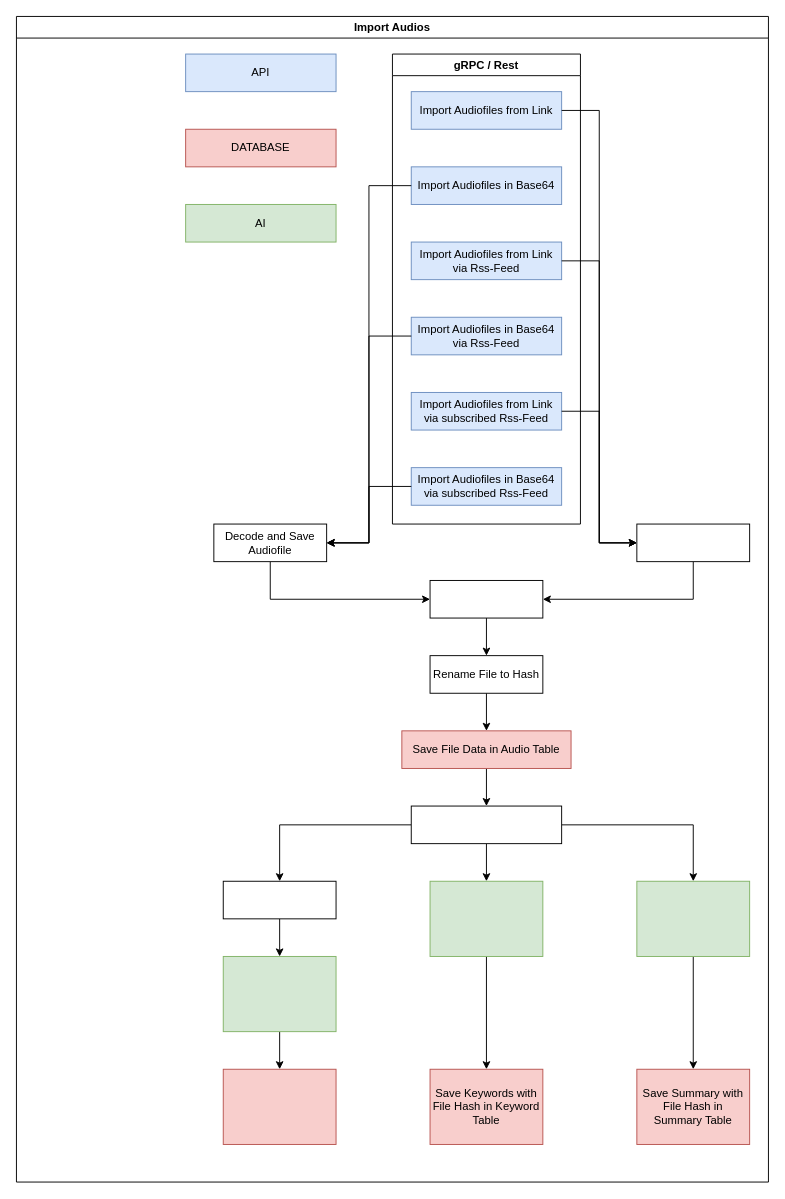
This 785x1199 diagram has some shape labels left out. The centre of each missing label's shape, as x and y in pixels:
Create a Structured Summary: [693,918]
Create embeddings for each sections via nomic- embed-text: [279,994]
Create Important Data Keywords: (Persons, Deadlines, Consepts, etc): [486,918]
Create SHA-512 File Hash: [486,599]
Create Transcript with Timestamps: [486,824]
Download Audiofile: [693,542]
Save embeddings with File Hash in embeddings Table: [279,1106]
Split Transcript in 60 Sec sections: [279,899]
